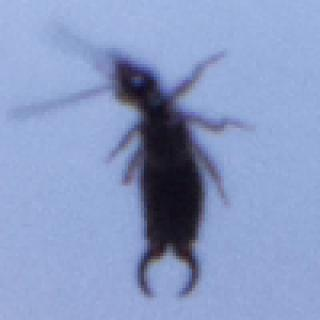earwig: (7, 24, 255, 302)
